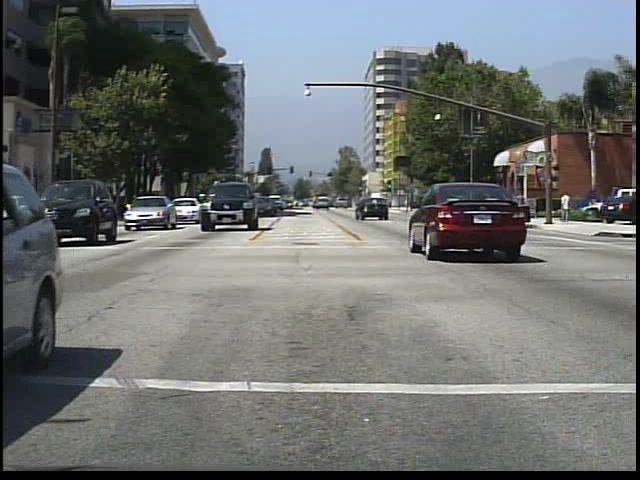person: (511, 190, 529, 227), (558, 189, 575, 225)
